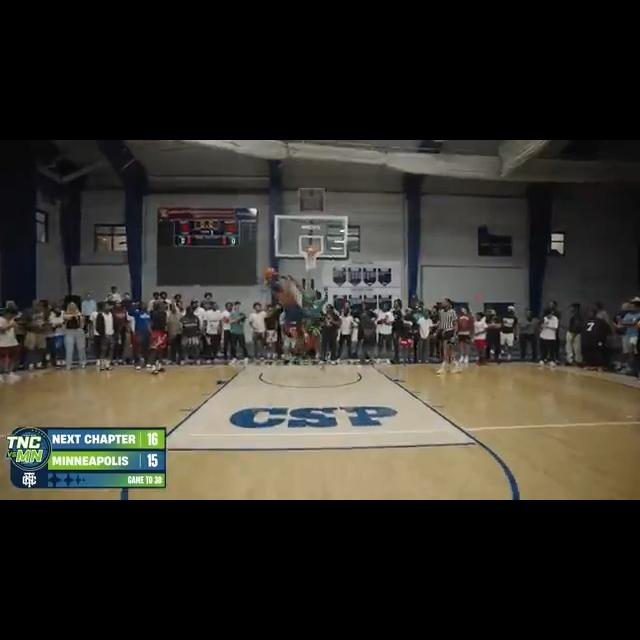basketball: (264, 267, 277, 282)
hoop: (302, 246, 320, 270)
